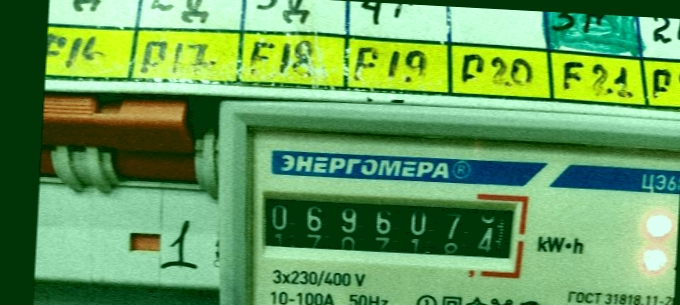0: (408, 204, 428, 235), (269, 200, 289, 229)
4: (476, 223, 494, 252)
6: (304, 201, 325, 230), (373, 204, 393, 234)
7: (444, 208, 462, 239)
9: (339, 203, 357, 232)
screen: (245, 172, 535, 276)
